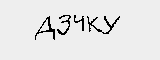Д: (37, 16, 59, 39)
З: (58, 15, 73, 37)
К: (88, 13, 103, 37)
У: (104, 12, 122, 37)
Ч: (72, 12, 88, 32)
